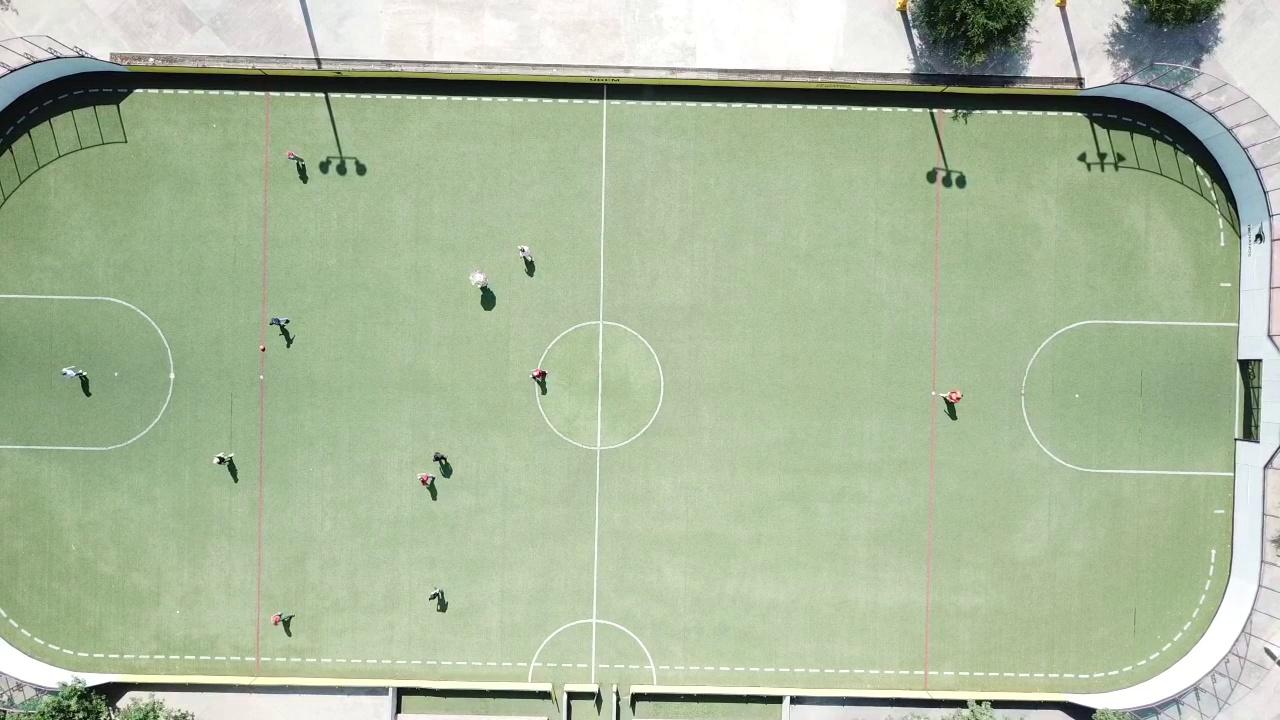ball: (260, 345, 266, 351)
player: (939, 385, 965, 404), (469, 270, 488, 290), (285, 151, 305, 169), (518, 244, 533, 262), (213, 452, 233, 465), (433, 452, 449, 467), (417, 473, 434, 487), (61, 367, 80, 379), (428, 588, 441, 602), (270, 317, 288, 326), (271, 613, 283, 626), (530, 369, 544, 379)
